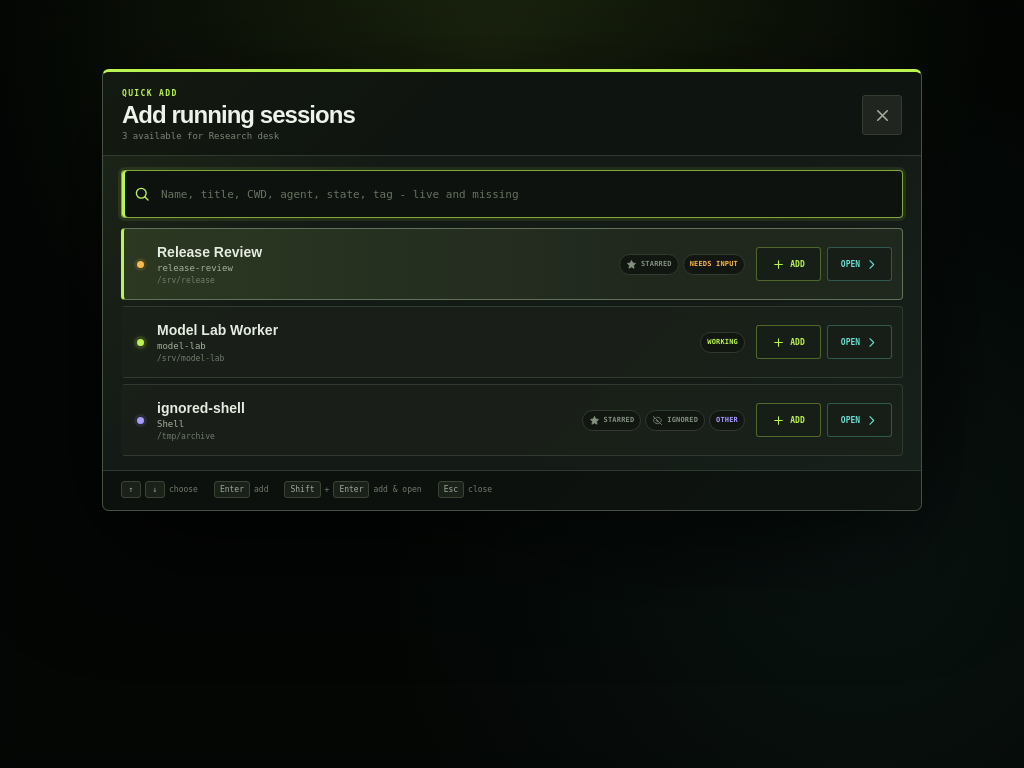
WorkspaceSessionAddDialog › keeps the picker open for repeated adds and filters newly added sessions
The width and height of the screenshot is (1024, 768).
Expected: the text "3 available for Research desk" is shown, x1=122 y1=131 x2=279 y2=141
Click the button with aria-label "Add release-review to workspace" at (788, 264), box x1=756 y1=247 x2=821 y2=281
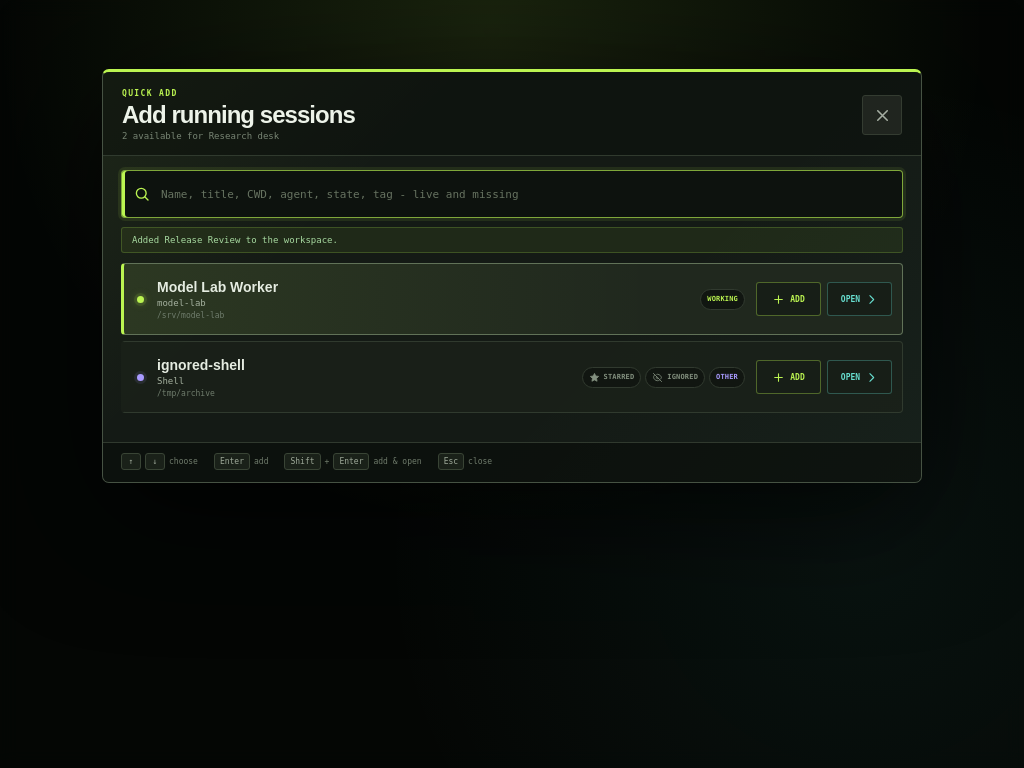
Expected: the dialog "Add running sessions" is shown, x1=102 y1=69 x2=922 y2=483
Expected: the message reads "Added Release Review to the workspace.", x1=132 y1=235 x2=338 y2=245
